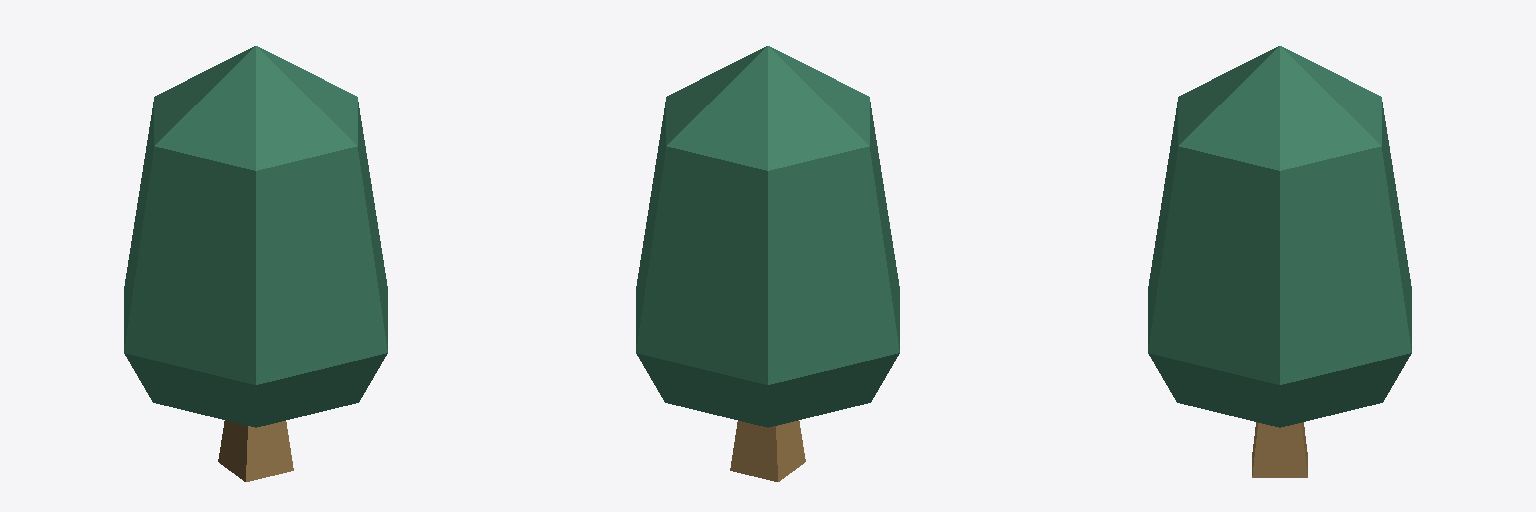
3 renders of one model, left to right at view 1: azimuth 30°, elevation 25°; view 2: azimuth 150°, elevation 25°; view 3: azimuth 270°, elevation 25°, orthographic.
Visible parts, largest first — view 1: Mesh1 Large_Oak_Green Model; view 2: Mesh1 Large_Oak_Green Model; view 3: Mesh1 Large_Oak_Green Model.
Boxes of the visible parts, x1,y1,x2,y2 form: Mesh1 Large_Oak_Green Model: [124, 46, 387, 481]; Mesh1 Large_Oak_Green Model: [636, 46, 899, 481]; Mesh1 Large_Oak_Green Model: [1148, 46, 1411, 477].
Bounding box in the file's own units: 3.02 × 4.6 × 2.62.
Materials: 1 (1 with a texture image).